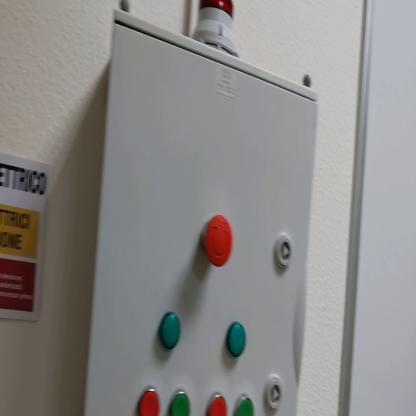left green button: (170, 393, 192, 411)
left red button: (140, 390, 161, 412)
right green button: (236, 397, 255, 412)
right red button: (206, 392, 229, 416)
